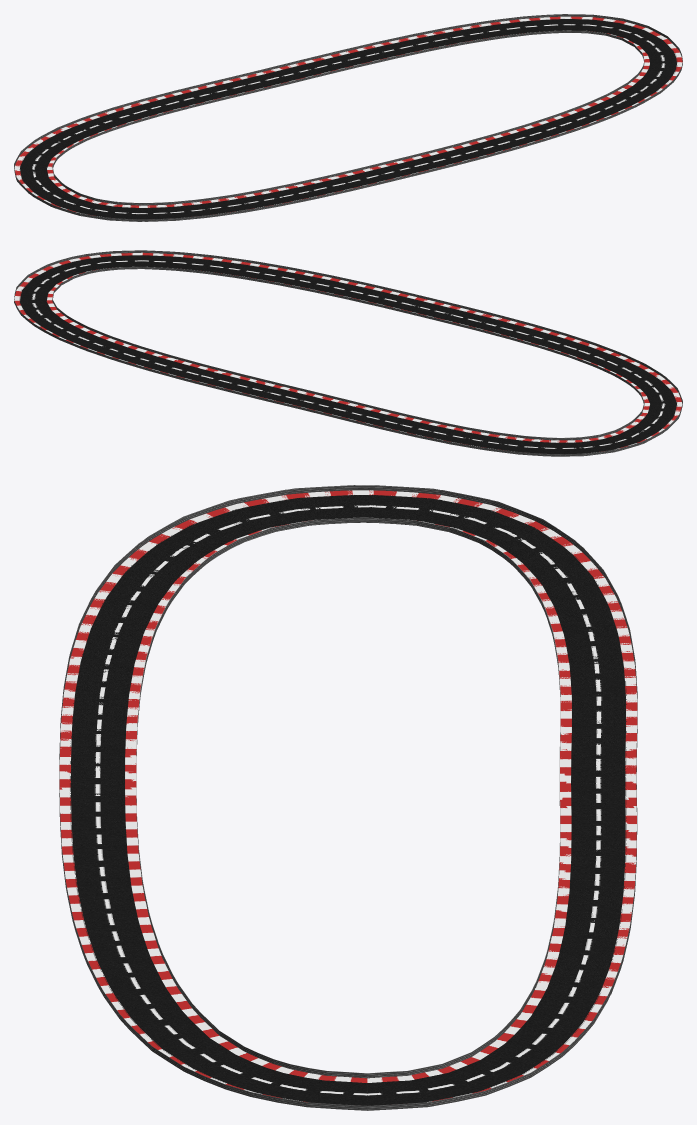
The model's file is CircuitoFacil.fbx.
The picture shows the model from 3 angles, top to bottom: view 1: azimuth 30°, elevation 25°; view 2: azimuth 150°, elevation 25°; view 3: azimuth 270°, elevation 25°; orthographic projection. The views are drawn at different scales.
Visible parts, largest first — view 1: Suelo.002, Extremos.001, ParedExt.002, ParedInt.002; view 2: Suelo.002, Extremos.001, ParedExt.002, ParedInt.002; view 3: Suelo.002, Extremos.001, ParedExt.002, ParedInt.002.
Part boxes in pixels (x1=…): Suelo.002: x1=20, y1=19, x2=676, y2=219; Extremos.001: x1=14, y1=16, x2=682, y2=217; ParedExt.002: x1=14, y1=14, x2=682, y2=221; ParedInt.002: x1=52, y1=30, x2=644, y2=205; Suelo.002: x1=20, y1=255, x2=676, y2=453; Extremos.001: x1=14, y1=252, x2=682, y2=452; ParedExt.002: x1=14, y1=250, x2=682, y2=456; ParedInt.002: x1=52, y1=266, x2=644, y2=440; Suelo.002: x1=71, y1=495, x2=625, y2=1105; Extremos.001: x1=59, y1=490, x2=637, y2=1103; ParedExt.002: x1=59, y1=485, x2=637, y2=1110; ParedInt.002: x1=136, y1=517, x2=560, y2=1078.
Size of the model in its own units: 25393 by 92.52 by 9995.
2 materials, 2 textured.
